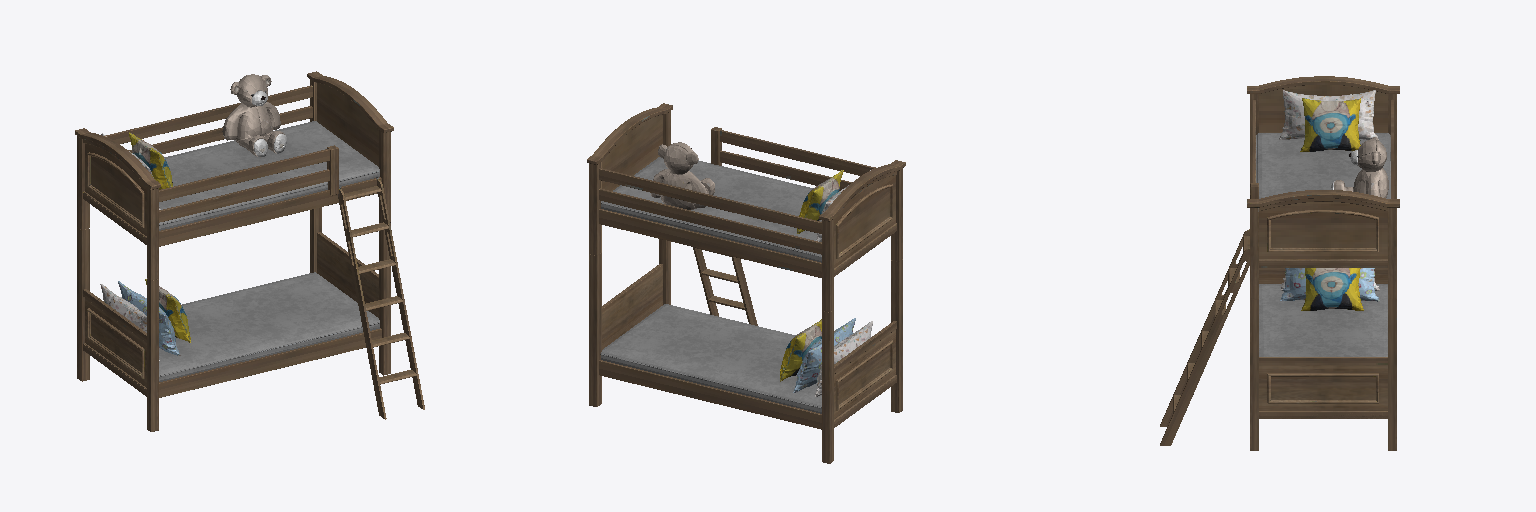
3 renders of one model, left to right at view 1: azimuth 30°, elevation 25°; view 2: azimuth 150°, elevation 25°; view 3: azimuth 270°, elevation 25°, orthographic.
Parts seen in each view (by area): view 1: solid_004, solid_001, solid_006, solid_005, solid_003, solid_011, solid_007; view 2: solid_004, solid_001, solid_005, solid_006, solid_003, solid_011; view 3: solid_004, solid_001, solid_005, solid_011, solid_006, solid_003.
Boxes of the visible parts, box(x1,y1,x2,y2) form: solid_004: box(75, 71, 424, 431); solid_001: box(159, 121, 379, 381); solid_006: box(222, 74, 284, 157); solid_005: box(129, 132, 190, 342); solid_003: box(118, 281, 180, 355); solid_011: box(100, 133, 160, 360); solid_007: box(252, 91, 286, 156); solid_004: box(587, 103, 905, 463); solid_001: box(600, 157, 821, 413); solid_005: box(780, 170, 843, 381); solid_006: box(651, 142, 714, 209); solid_003: box(793, 318, 855, 392); solid_011: box(815, 170, 872, 396); solid_004: box(1160, 76, 1399, 450); solid_001: box(1256, 133, 1390, 356); solid_005: box(1300, 98, 1363, 310); solid_011: box(1279, 90, 1379, 290); solid_006: box(1334, 137, 1388, 197); solid_003: box(1280, 268, 1379, 301).
Bounding box in the file's own units: 1.27 × 1.36 × 1.09.
1 materials, 1 textured.